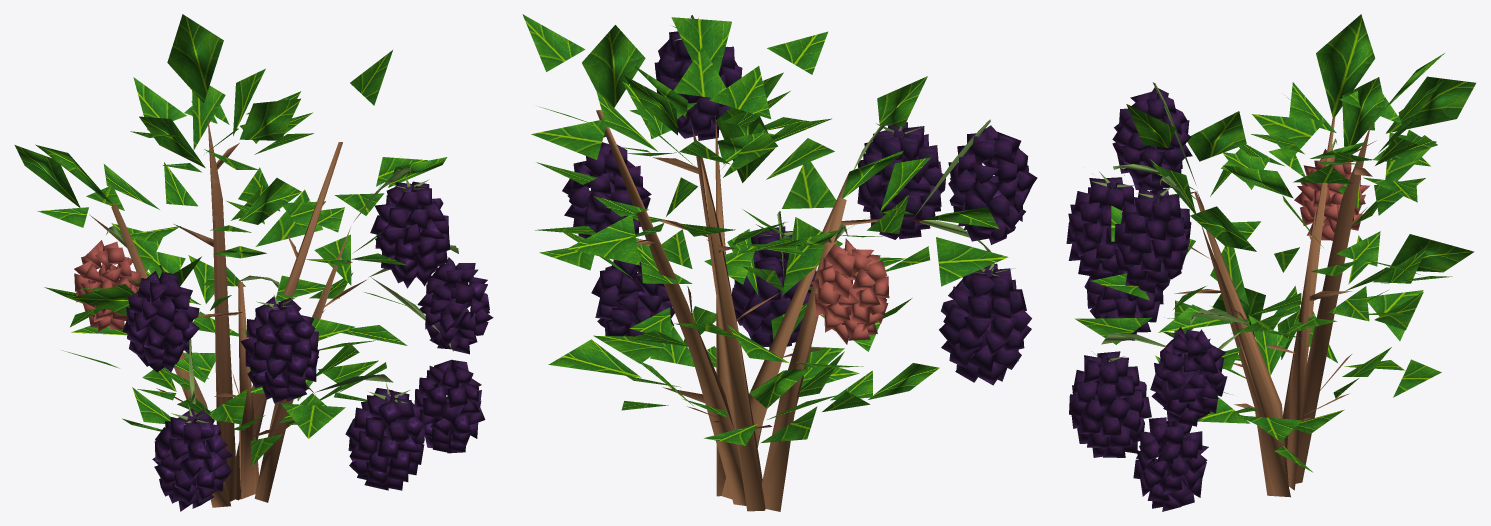
Rendered from NP_Blackberry_Ready_LOD1.fbx.
3 views of the same model, side by side, from view 1: azimuth 30°, elevation 25°; view 2: azimuth 150°, elevation 25°; view 3: azimuth 270°, elevation 25° (orthographic). The views are drawn at different scales.
Parts seen in each view (by area): view 1: NP_Blackberry_Ready; view 2: NP_Blackberry_Ready; view 3: NP_Blackberry_Ready.
Boxes of the visible parts, x1=… form: NP_Blackberry_Ready: x1=14, y1=14, x2=493, y2=511; NP_Blackberry_Ready: x1=522, y1=14, x2=1037, y2=511; NP_Blackberry_Ready: x1=1066, y1=14, x2=1475, y2=511.
Size of the model in its own units: 78.08 by 80.27 by 67.21.
